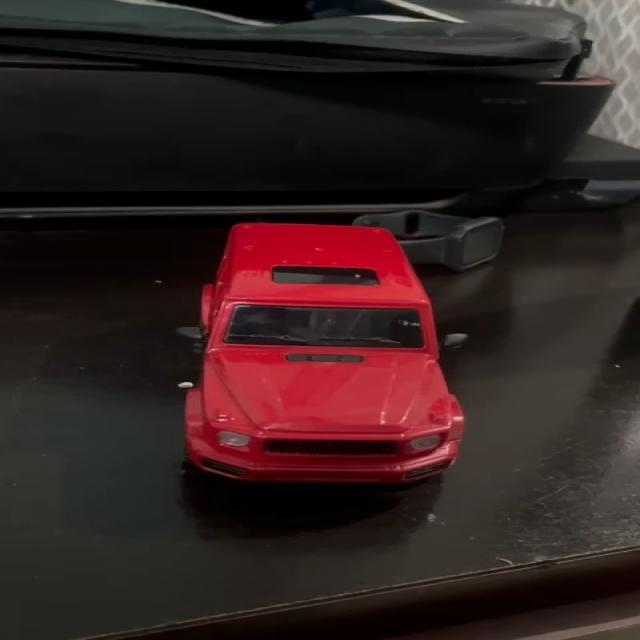light_vehicle: (188, 221, 469, 478)
